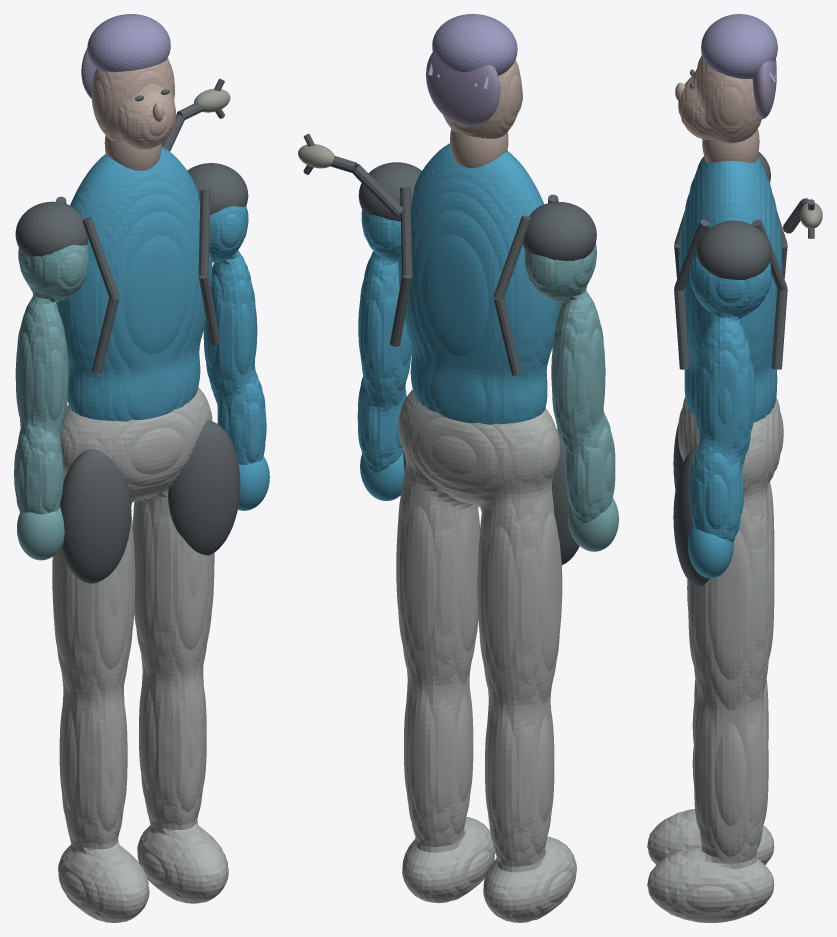
File: campōss_prototype.glb
The picture shows the model from 3 angles, left to right: view 1: azimuth 30°, elevation 25°; view 2: azimuth 150°, elevation 25°; view 3: azimuth 270°, elevation 25°; orthographic projection. The views are drawn at different scales.
Visible parts, largest first — view 1: legs_1, body_2, sleeve_-1_3, sleeve_1_9, cargo_pocket_-1_6, cargo_pocket_1_12, head_16, hair_cap_21, shoulder_pad_-1_5, shoulder_pad_1_11, glove_-1_4, vest_strap_-1_7 (+5 smaller); view 2: legs_1, body_2, sleeve_-1_3, sleeve_1_9, hair_cap_21, hair_back_22, shoulder_pad_-1_5, head_16, shoulder_pad_1_11, back_strap_-1_8, back_strap_1_14, glove_-1_4 (+5 smaller); view 3: legs_1, sleeve_1_9, body_2, head_16, hair_cap_21, shoulder_pad_1_11, cargo_pocket_1_12, glove_1_10, vest_strap_1_13, back_strap_1_14, neck_15, hair_back_22 (+1 smaller).
Part boxes in pixels (<box>): legs_1: <box>52,387,228,922</box>; body_2: <box>57,147,212,421</box>; sleeve_-1_3: <box>14,244,88,514</box>; sleeve_1_9: <box>203,206,266,465</box>; cargo_pocket_-1_6: <box>60,449,131,583</box>; cargo_pocket_1_12: <box>168,420,240,555</box>; head_16: <box>92,58,175,149</box>; hair_cap_21: <box>87,14,170,71</box>; shoulder_pad_-1_5: <box>15,201,88,256</box>; shoulder_pad_1_11: <box>187,163,248,214</box>; glove_-1_4: <box>17,507,64,560</box>; vest_strap_-1_7: <box>82,217,119,373</box>; legs_1: <box>396,389,576,922</box>; body_2: <box>398,143,559,424</box>; sleeve_-1_3: <box>524,243,615,523</box>; sleeve_1_9: <box>357,209,411,472</box>; hair_cap_21: <box>432,14,517,75</box>; hair_back_22: <box>426,51,500,126</box>; shoulder_pad_-1_5: <box>523,201,596,260</box>; head_16: <box>443,59,522,138</box>; shoulder_pad_1_11: <box>358,162,421,221</box>; back_strap_-1_8: <box>493,215,531,375</box>; back_strap_1_14: <box>390,187,412,346</box>; glove_-1_4: <box>567,498,618,551</box>; legs_1: <box>647,397,783,922</box>; sleeve_1_9: <box>689,250,771,542</box>; body_2: <box>679,157,782,422</box>; head_16: <box>678,54,761,143</box>; hair_cap_21: <box>701,14,777,78</box>; shoulder_pad_1_11: <box>696,220,770,279</box>; cargo_pocket_1_12: <box>673,450,709,586</box>; glove_1_10: <box>687,524,733,578</box>; vest_strap_1_13: <box>674,219,709,369</box>; back_strap_1_14: <box>752,219,787,369</box>; neck_15: <box>702,128,759,162</box>; hair_back_22: <box>752,59,776,118</box>.
Size of the model in its own units: 0.525 by 1.69 by 0.3056.
